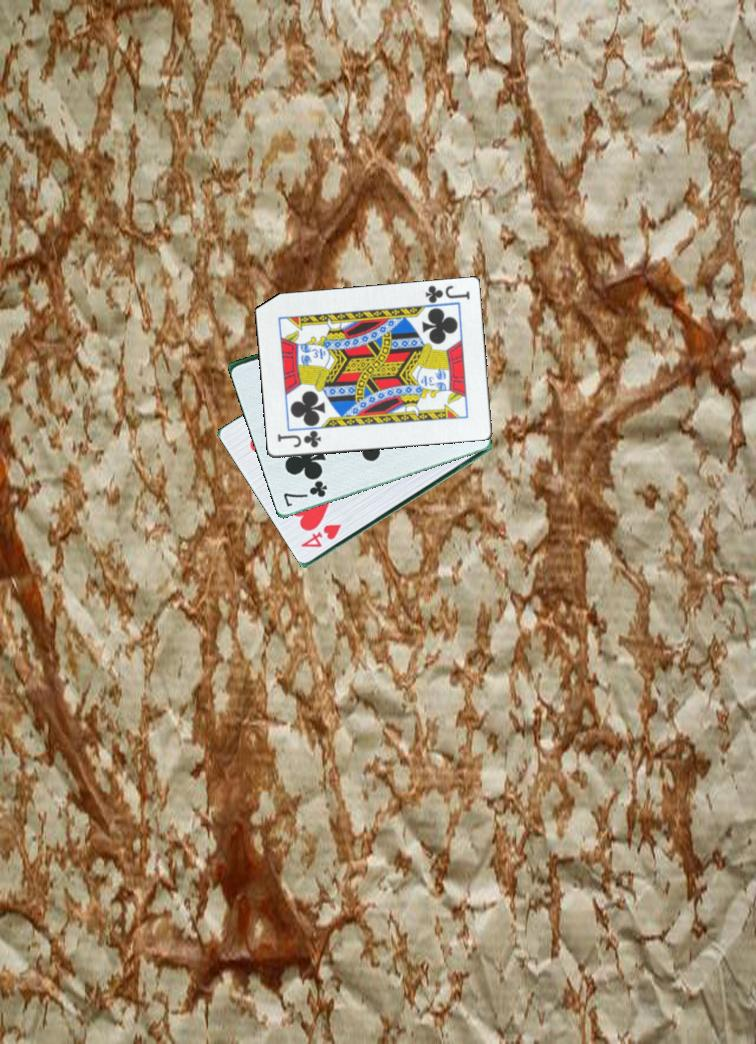4h: (297, 521, 345, 551)
7c: (279, 476, 331, 510)
jc: (421, 282, 473, 307), (274, 428, 324, 451)
